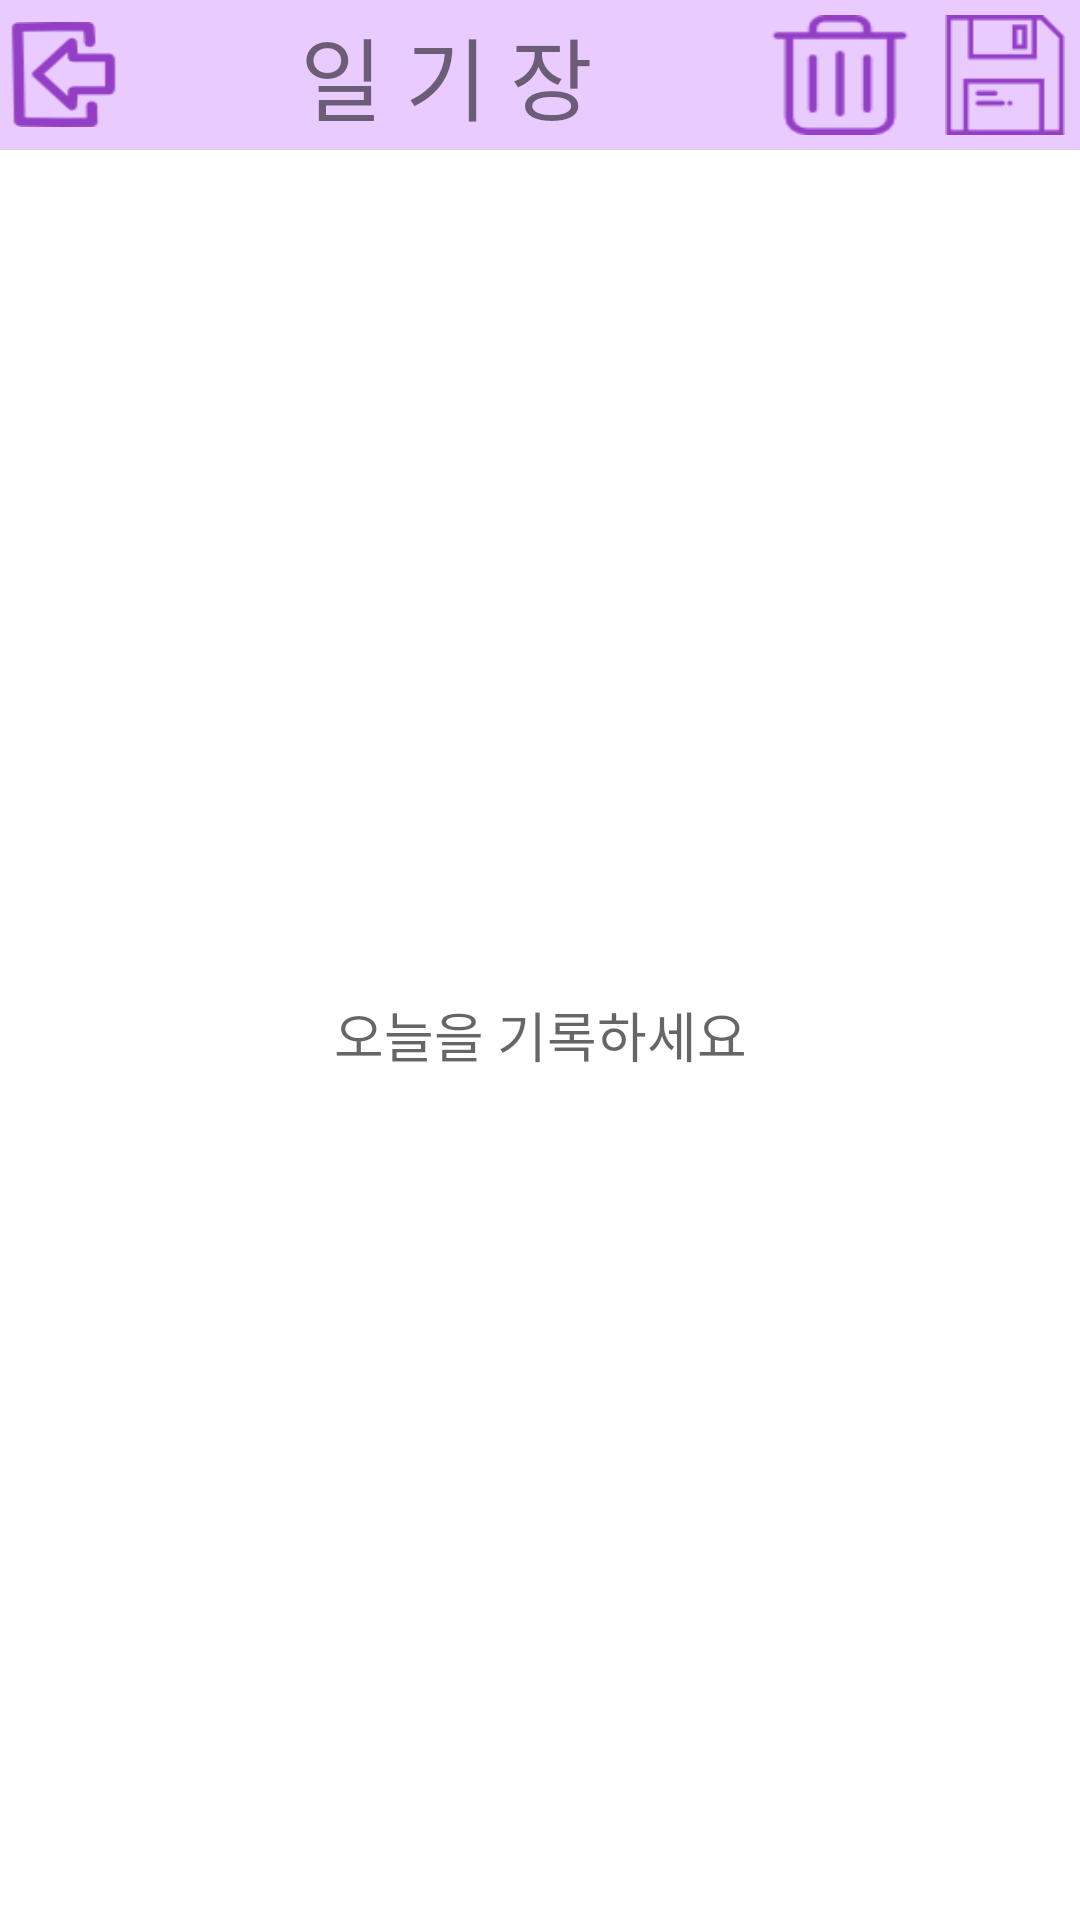

Locate icon controls on the screen. Image size 1080*1920, boxes as (x1, y1, x2, y2).
garbage: (772, 15, 908, 135)
go out: (11, 22, 116, 127)
save: (945, 15, 1065, 135)
